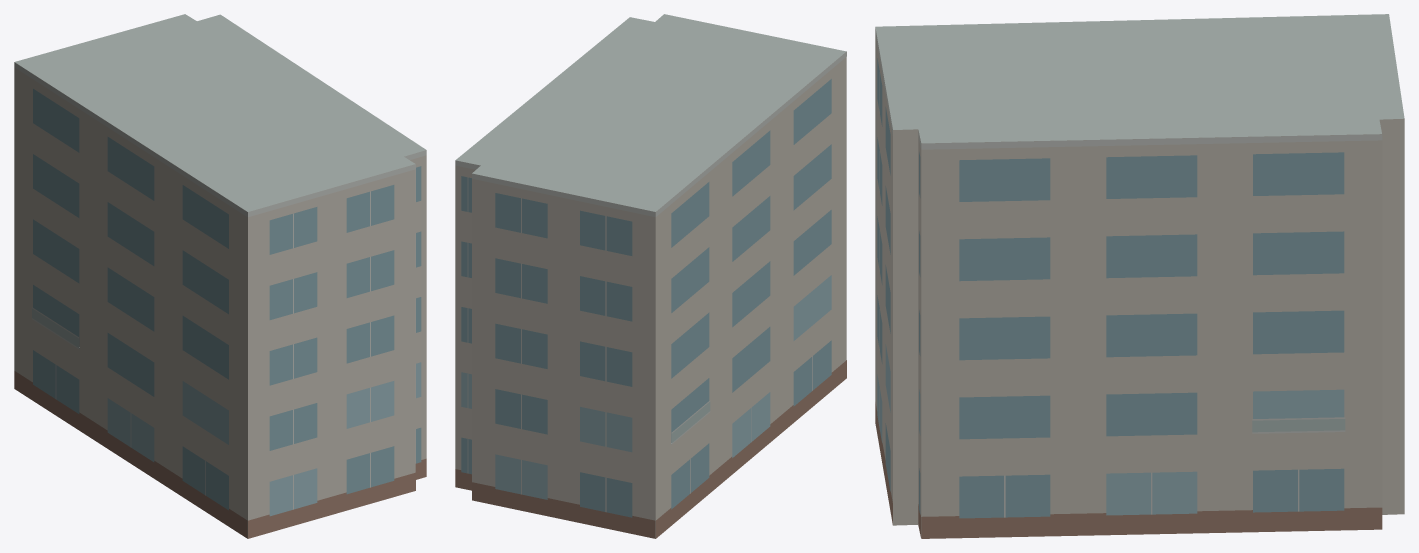
The model's file is survey-upis-32727688.glb.
3 views of the same model, side by side, from view 1: azimuth 30°, elevation 25°; view 2: azimuth 150°, elevation 25°; view 3: azimuth 270°, elevation 25° (orthographic). The views are drawn at different scales.
Parts seen in each view (by area): view 1: survey-upis-32727688.tmp; view 2: survey-upis-32727688.tmp; view 3: survey-upis-32727688.tmp.
Boxes of the visible parts, left/top/right/bottom form: survey-upis-32727688.tmp: left=14, top=14, right=426, bottom=538; survey-upis-32727688.tmp: left=455, top=14, right=846, bottom=538; survey-upis-32727688.tmp: left=875, top=14, right=1404, bottom=538.
Size of the model in its own units: 10.71 by 15.25 by 18.51.
